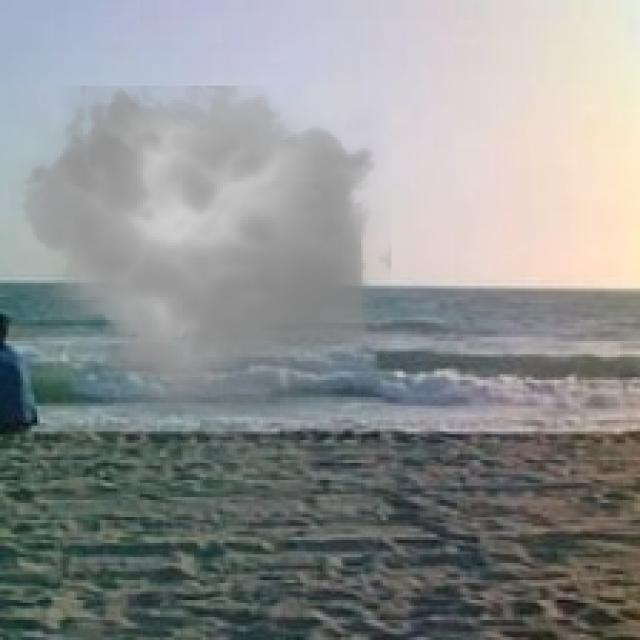smoke: (9, 69, 392, 428)
